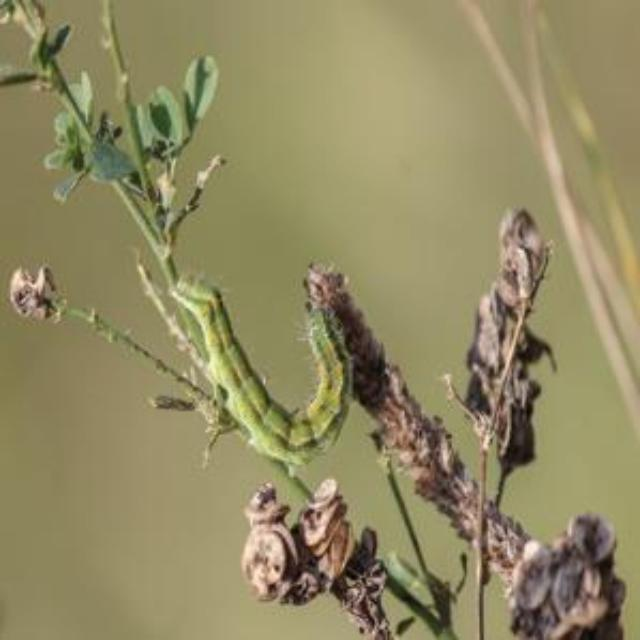Cotton bollworm: (138, 251, 378, 483)
